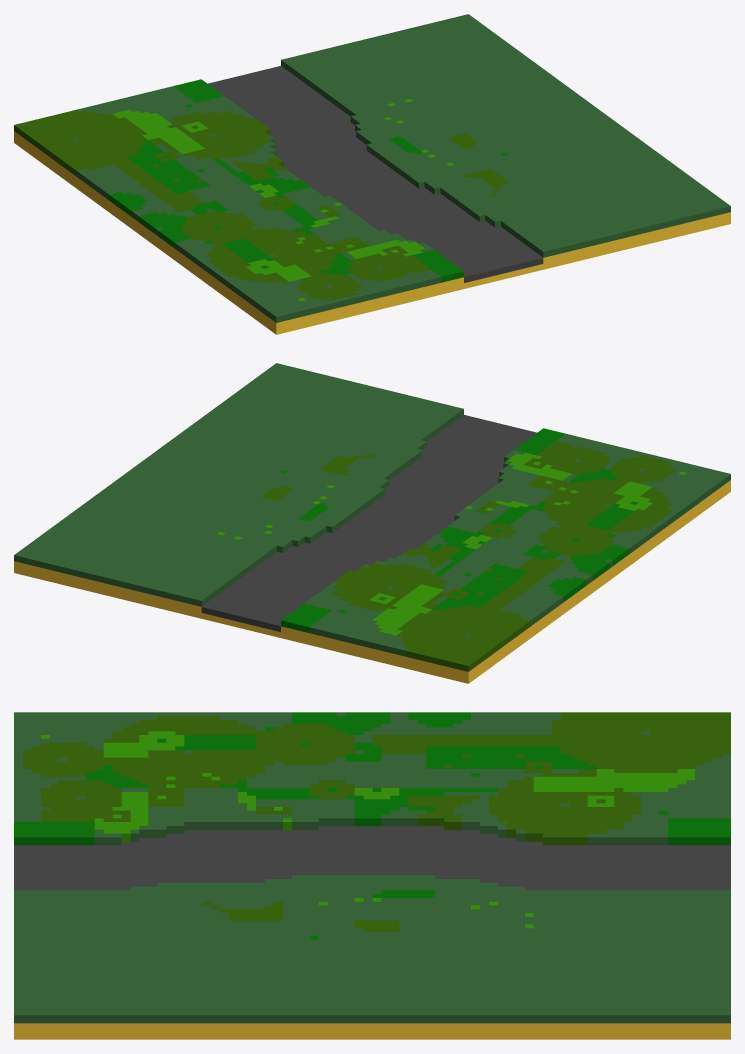
Rendered from straightwithbend.obj.
The picture shows the model from 3 angles, top to bottom: view 1: azimuth 30°, elevation 25°; view 2: azimuth 150°, elevation 25°; view 3: azimuth 270°, elevation 25°; orthographic projection. The views are drawn at different scales.
Parts seen in each view (by area): view 1: straightwithbend; view 2: straightwithbend; view 3: straightwithbend.
Part boxes in pixels (<box>): straightwithbend: <box>14,14,730,334</box>; straightwithbend: <box>14,363,730,683</box>; straightwithbend: <box>14,712,730,1039</box>.
Bounding box in the file's own units: 80 × 3 × 80.
Materials: 1 (1 with a texture image).
